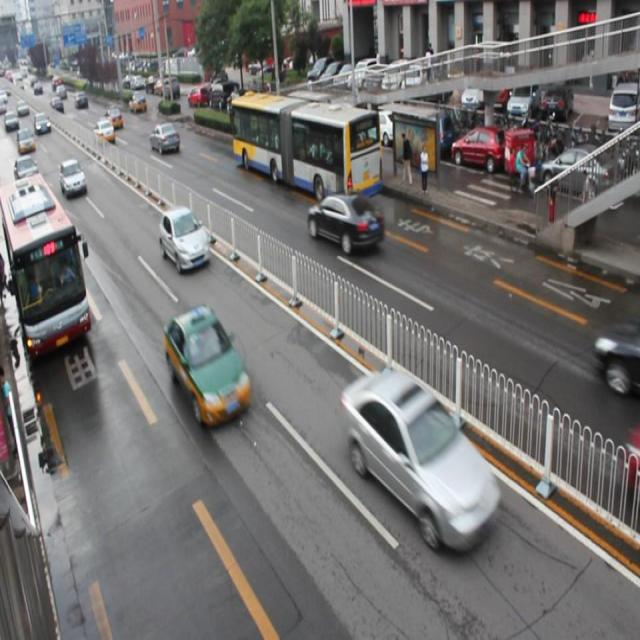car: (341, 368, 503, 554), (165, 307, 250, 425), (307, 190, 383, 253), (159, 206, 210, 270), (60, 156, 88, 197), (150, 122, 180, 154)
van: (229, 88, 382, 204), (1, 173, 90, 356)
